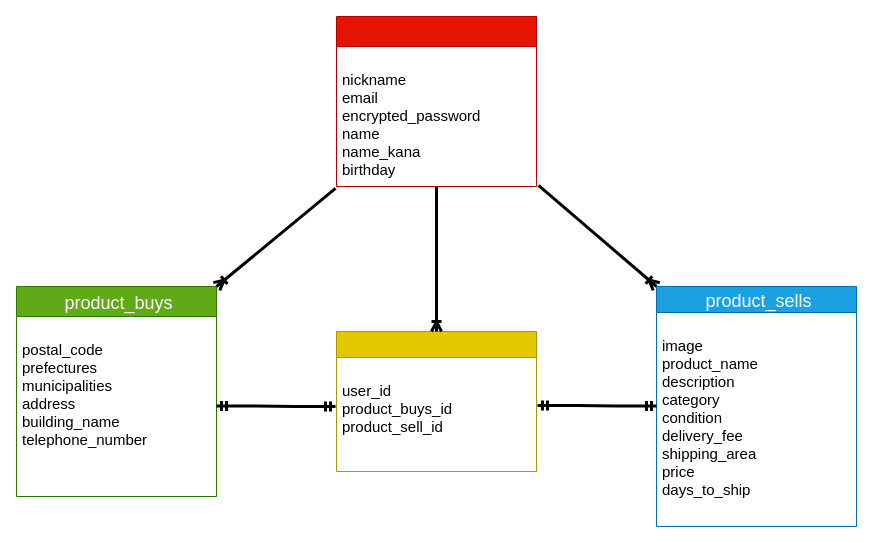
This 873x543 diagram has some shape labels left out. Each missing label, with the box of its shape:
user_buy_sells: (336, 330, 536, 472)
users: (336, 16, 536, 186)
